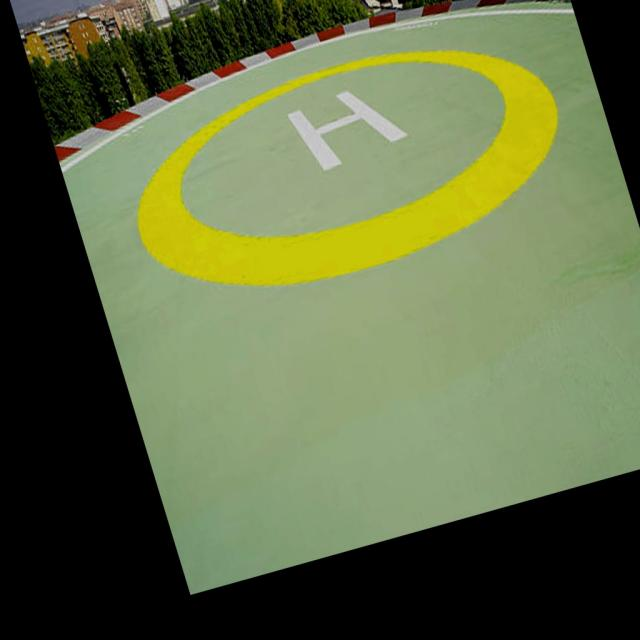helipad: (129, 40, 570, 289)
